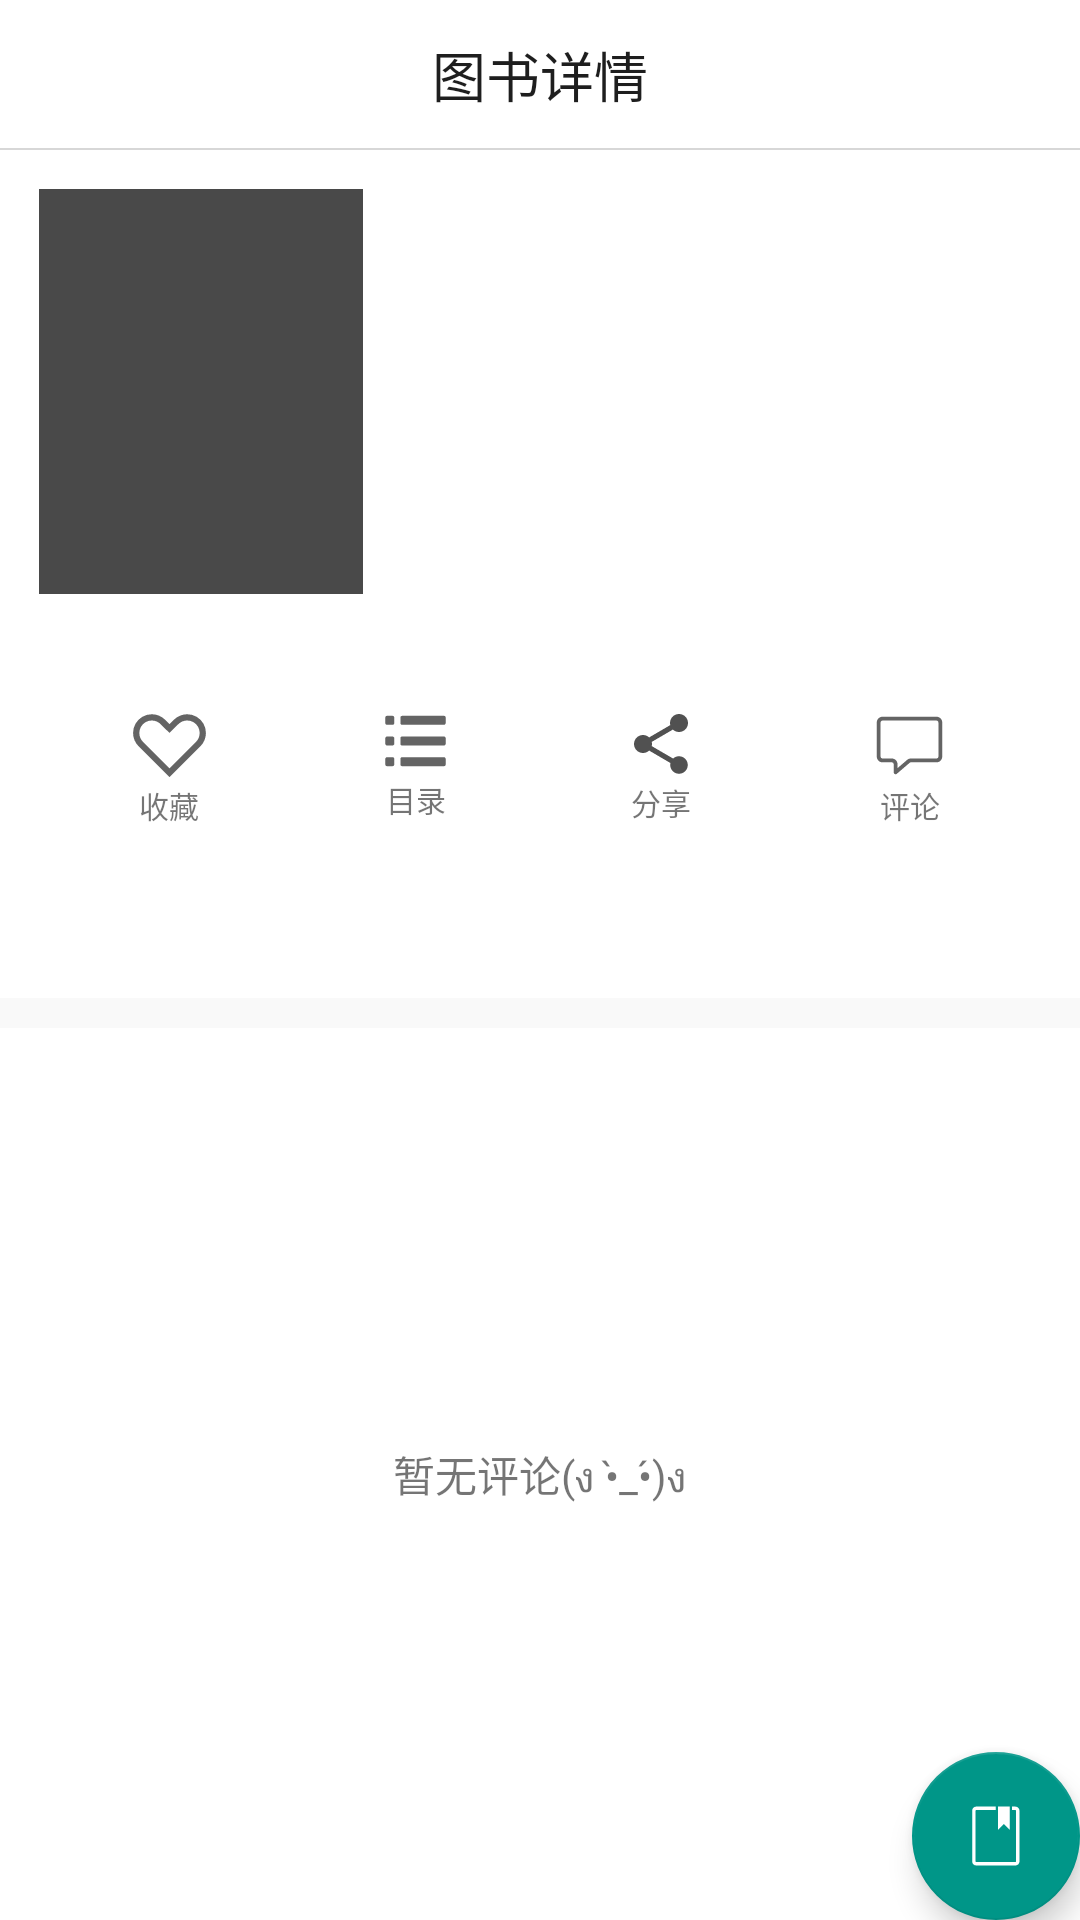

Where icons sit on this 1080w x 1920h app screen, as (x1, y1, x2, y2):
category: (385, 715, 446, 767)
heart: (133, 714, 206, 777)
read: (912, 1752, 1080, 1920)
